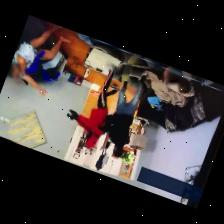person: (8, 25, 69, 95), (68, 64, 118, 146), (108, 72, 146, 156), (95, 148, 106, 169)
